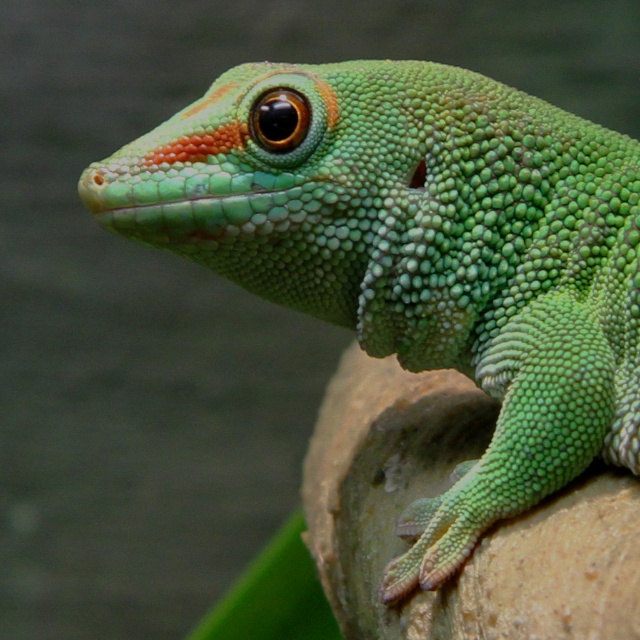Lizard: (77, 60, 640, 605)
